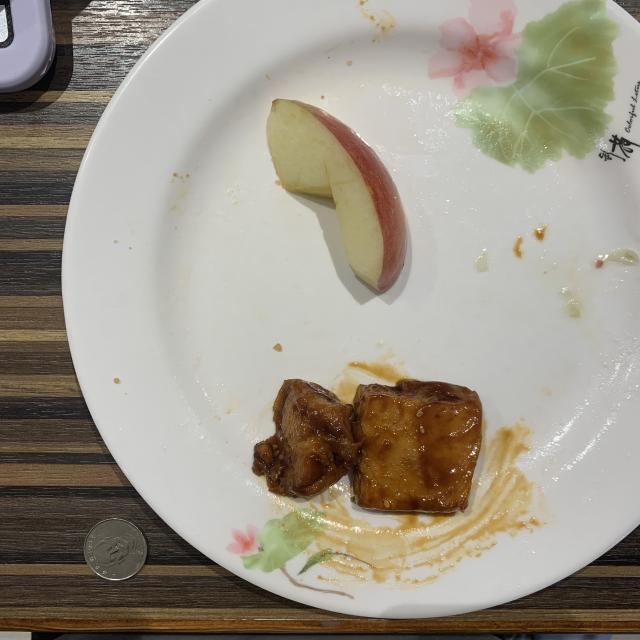apple -sliced-: (268, 99, 408, 292)
coin: (84, 519, 148, 580)
creamy tofu: (252, 379, 482, 512)
